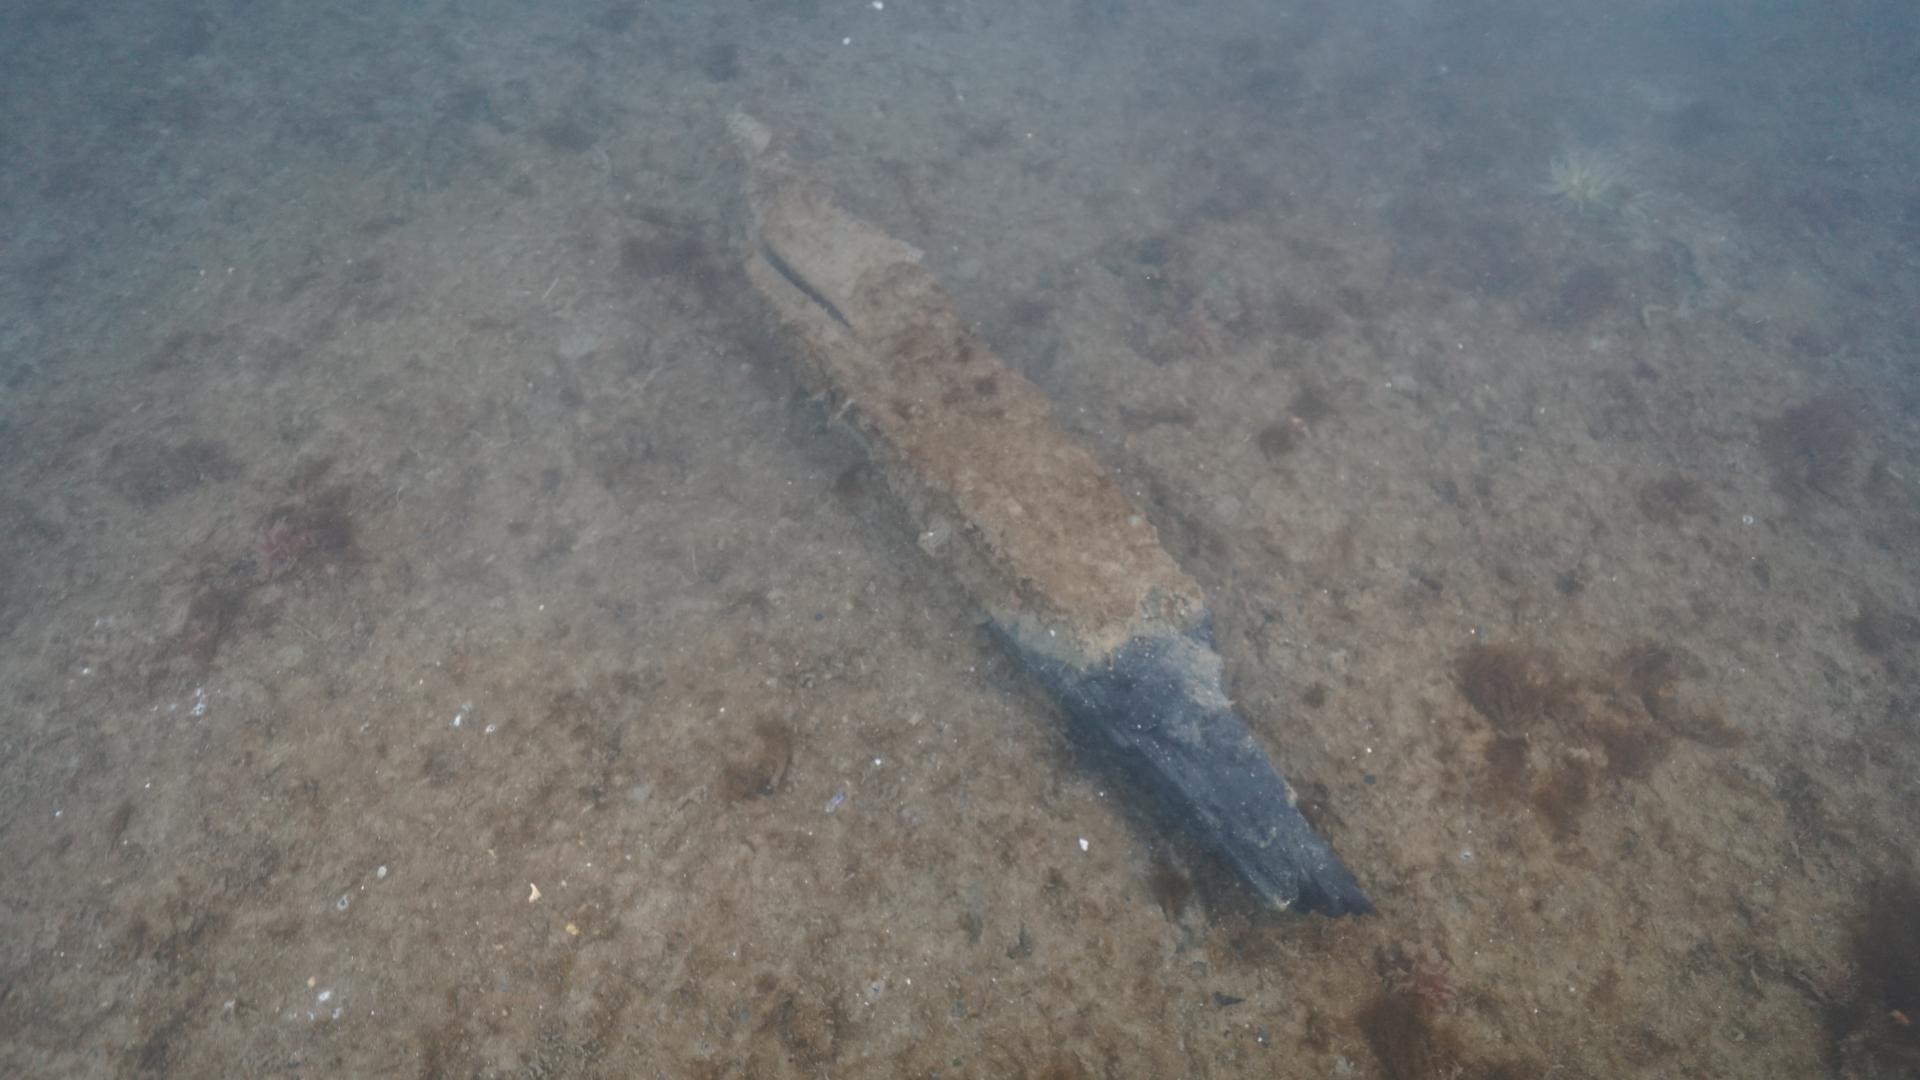wood: (683, 94, 1382, 915)
